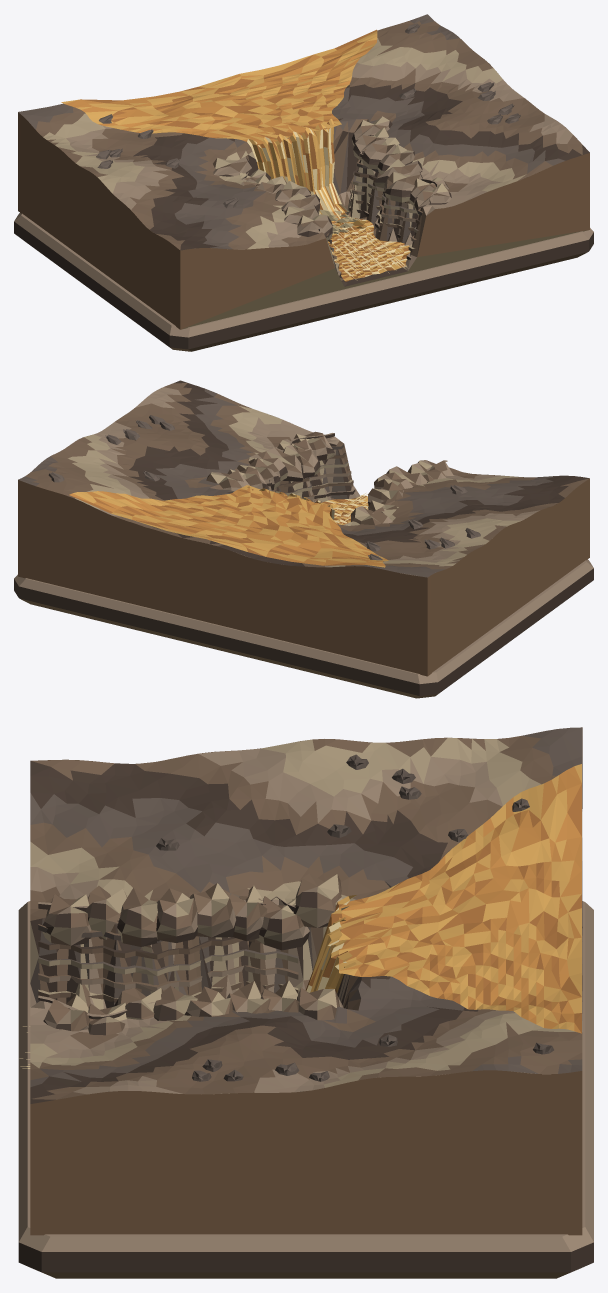
File: hukou-falls.glb
3 views of the same model, one above another, from view 1: azimuth 30°, elevation 25°; view 2: azimuth 150°, elevation 25°; view 3: azimuth 270°, elevation 25° (orthographic). The views are drawn at different scales.
Parts seen in each view (by area): view 1: 黄河壶口瀑布; view 2: 黄河壶口瀑布; view 3: 黄河壶口瀑布.
Part boxes in pixels (x1,y1,x2,y2): 黄河壶口瀑布: [14, 14, 593, 351]; 黄河壶口瀑布: [14, 380, 593, 698]; 黄河壶口瀑布: [18, 727, 593, 1278].
Size of the model in its own units: 6.15 by 1.75 by 4.28.
